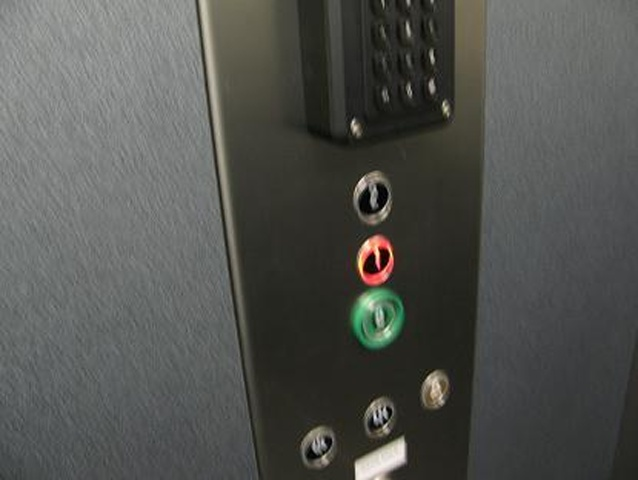1: (353, 230, 397, 288)
alarm: (418, 367, 453, 412)
blur: (348, 289, 408, 351), (349, 165, 397, 227), (297, 421, 340, 470)
close: (360, 393, 399, 440)
